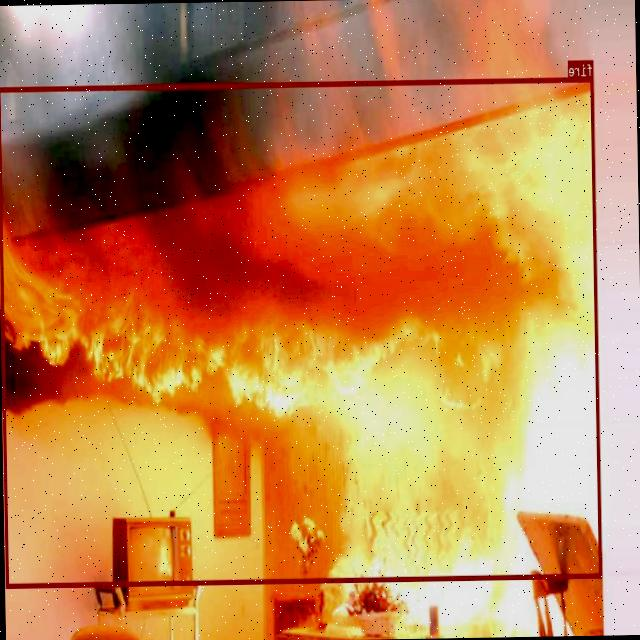fire: (0, 76, 602, 586)
